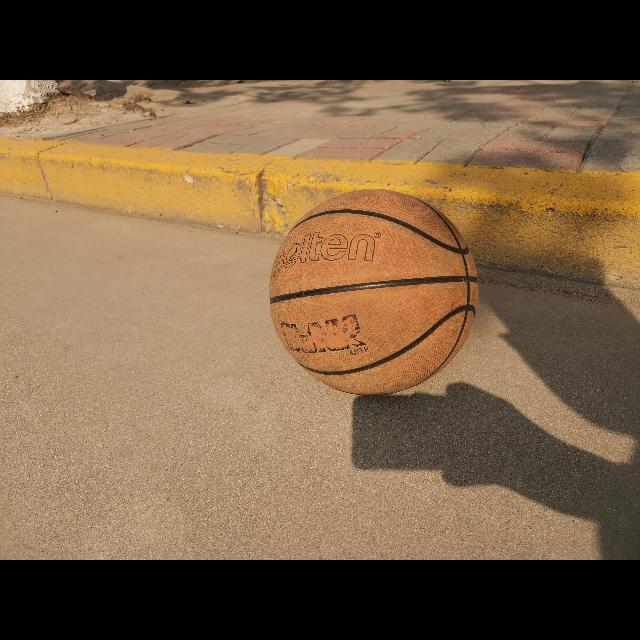basketball: (270, 188, 480, 396)
